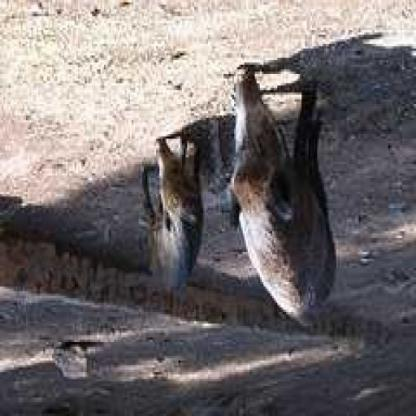boar: (219, 58, 342, 309), (109, 125, 223, 318)
